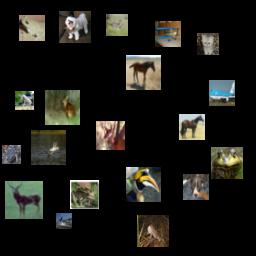airplane: (155, 21, 181, 47), (209, 80, 235, 106)
bird: (31, 130, 66, 165), (126, 167, 161, 202)
cat: (197, 33, 219, 55)
deer: (5, 181, 43, 219), (45, 90, 80, 125), (96, 121, 125, 150), (106, 14, 128, 36)
dog: (59, 11, 91, 43), (183, 174, 209, 200)
frog: (211, 147, 243, 179), (137, 215, 169, 247), (70, 180, 99, 209), (19, 15, 45, 41), (2, 145, 21, 164)
ship: (56, 213, 72, 229)
